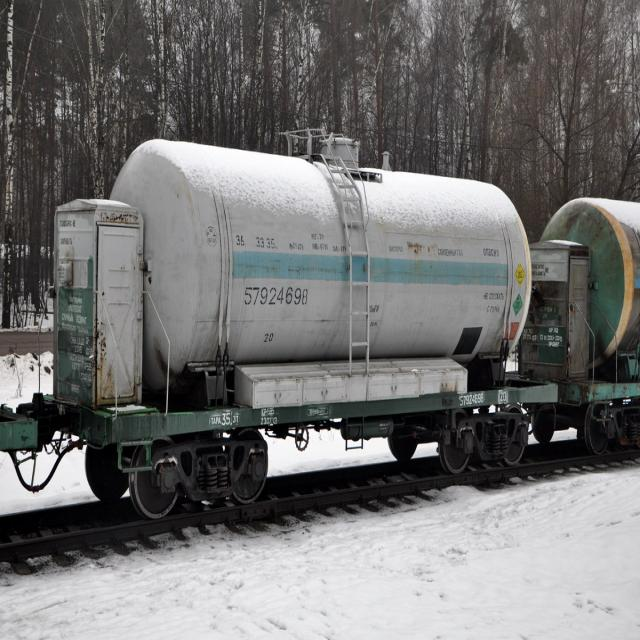tank: (32, 103, 540, 548), (528, 172, 640, 467)
